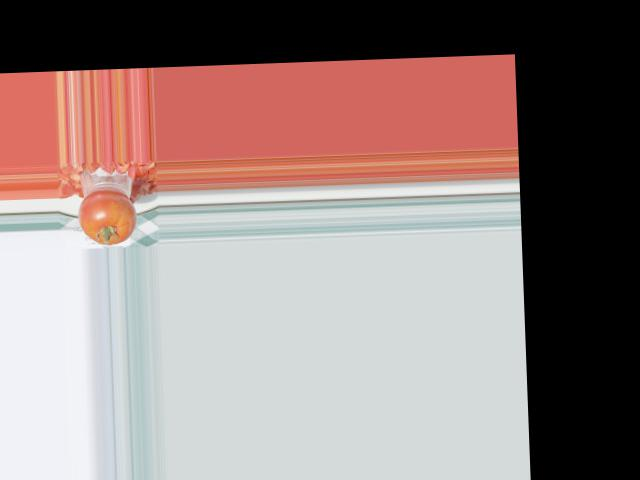tomato: (76, 188, 137, 246)
